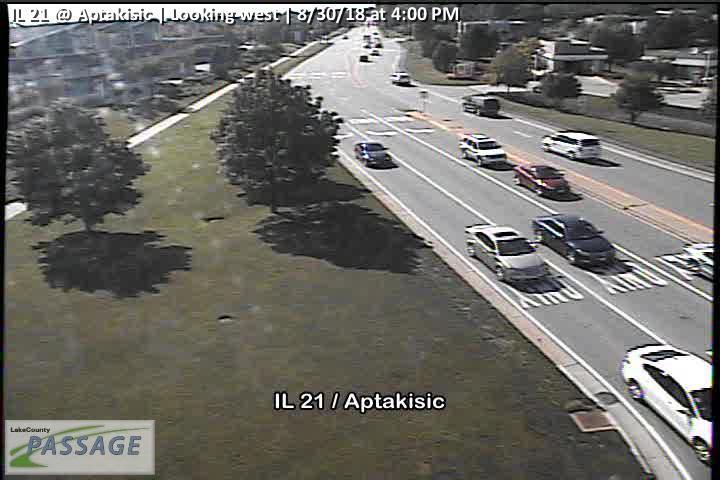SUV: (541, 131, 602, 161), (462, 96, 499, 118), (391, 72, 410, 84)
Sedan: (620, 342, 713, 464), (463, 223, 546, 283), (533, 211, 617, 267), (511, 162, 569, 197), (458, 134, 506, 165), (356, 142, 394, 170)
